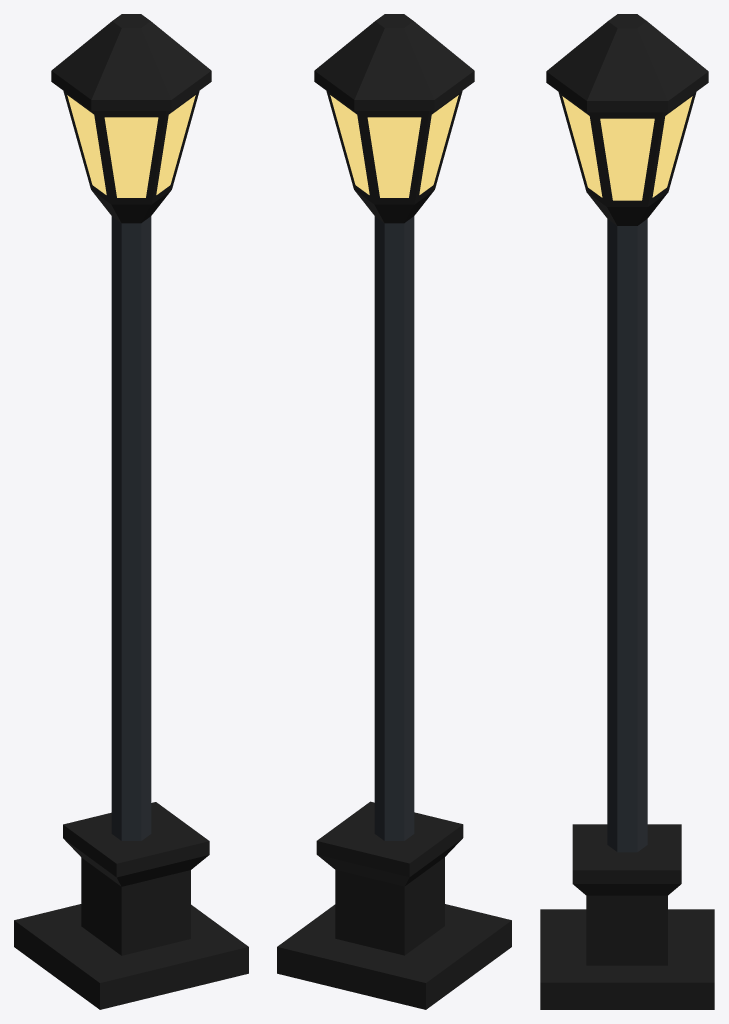
The model's file is street_lamp.fbx.
3 views of the same model, side by side, from view 1: azimuth 30°, elevation 25°; view 2: azimuth 150°, elevation 25°; view 3: azimuth 270°, elevation 25° (orthographic).
Visible parts, largest first — view 1: street_lamp; view 2: street_lamp; view 3: street_lamp.
Boxes of the visible parts, x1=… form: street_lamp: x1=14, y1=14, x2=248, y2=1009; street_lamp: x1=277, y1=14, x2=511, y2=1009; street_lamp: x1=540, y1=14, x2=714, y2=1009.
Size of the model in its own units: 0.5885 by 3.55 by 0.5885.
